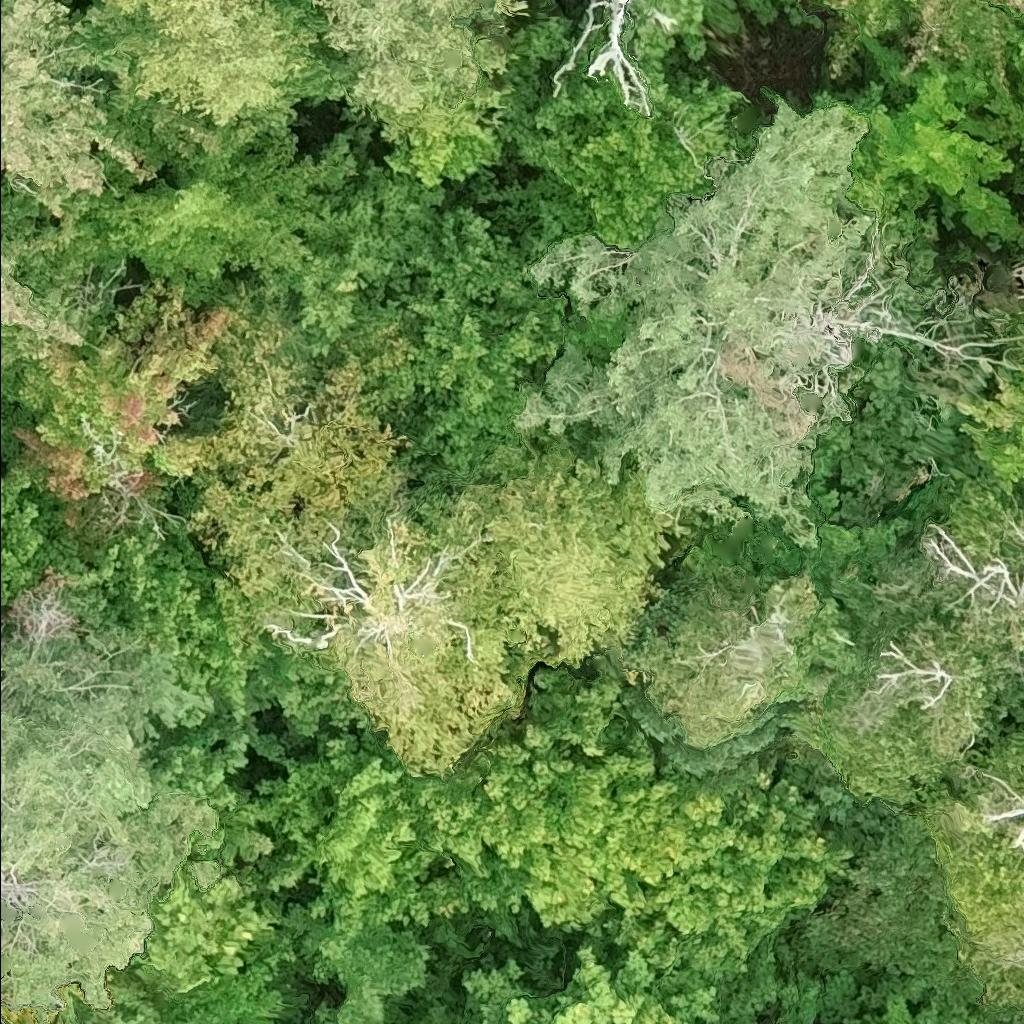crown: (514, 95, 942, 550), (154, 314, 549, 777), (469, 645, 852, 1022), (0, 586, 220, 1023), (56, 523, 365, 732), (253, 731, 530, 957), (616, 562, 859, 791), (775, 584, 1010, 813), (453, 441, 690, 668), (811, 338, 985, 523), (861, 478, 1023, 675), (912, 722, 1023, 899), (462, 948, 721, 1023), (283, 902, 436, 1023), (0, 464, 91, 605), (945, 884, 1023, 1012), (954, 368, 1023, 499), (1017, 35, 1023, 92)
